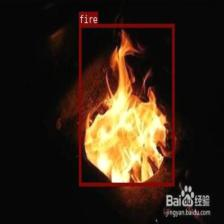fire: (79, 24, 174, 185)
